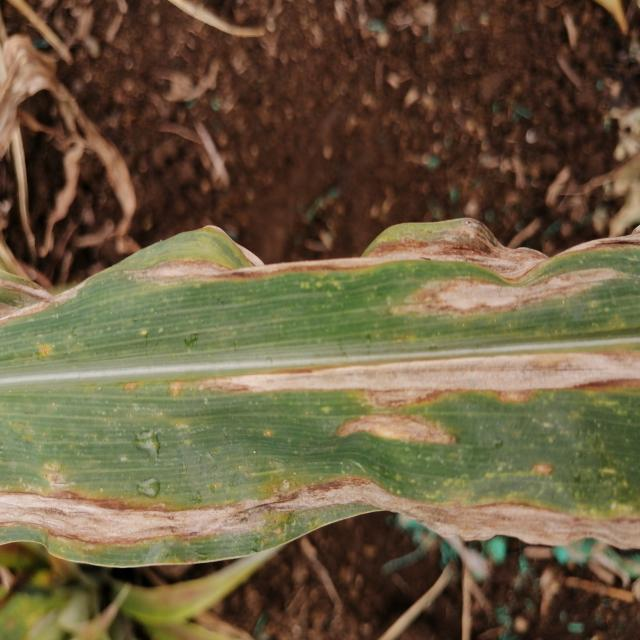Corn_Leaf_Blight: (0, 206, 640, 568)
